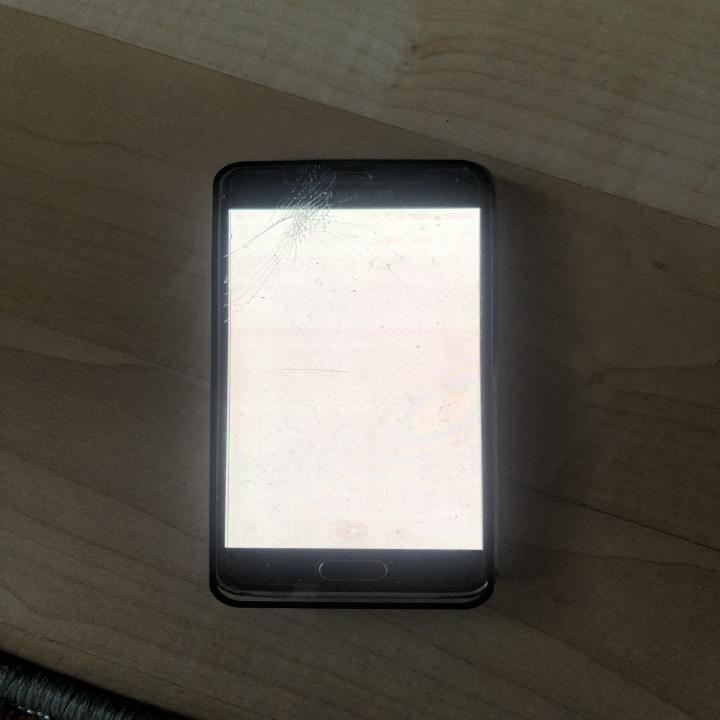Crack: (222, 162, 479, 322)
